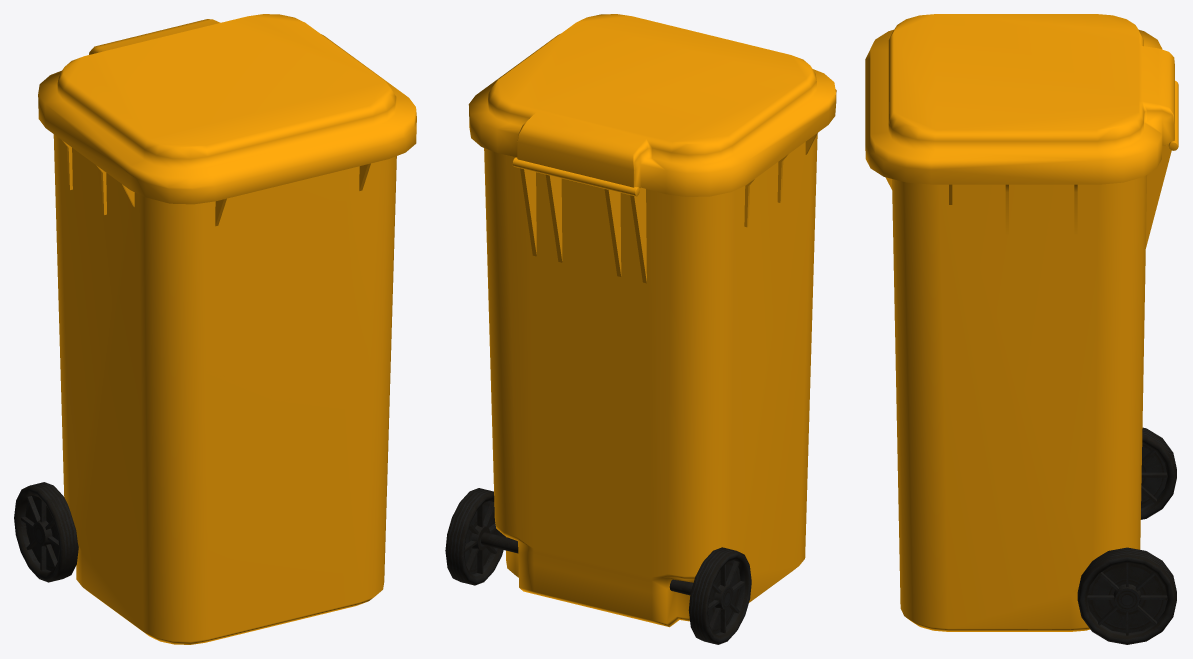
File: full.glb
3 renders of one model, left to right at view 1: azimuth 30°, elevation 25°; view 2: azimuth 150°, elevation 25°; view 3: azimuth 270°, elevation 25°, orthographic. The views are drawn at different scales.
Visible parts, largest first — view 1: polySurface52; view 2: polySurface52; view 3: polySurface52.
Part boxes in pixels (x1,y1,x2,y2): polySurface52: (14,14,416,644); polySurface52: (445,14,836,644); polySurface52: (865,14,1178,644).
Bounding box in the file's own units: 77 × 134 × 74.63.
2 materials, 2 textured.
